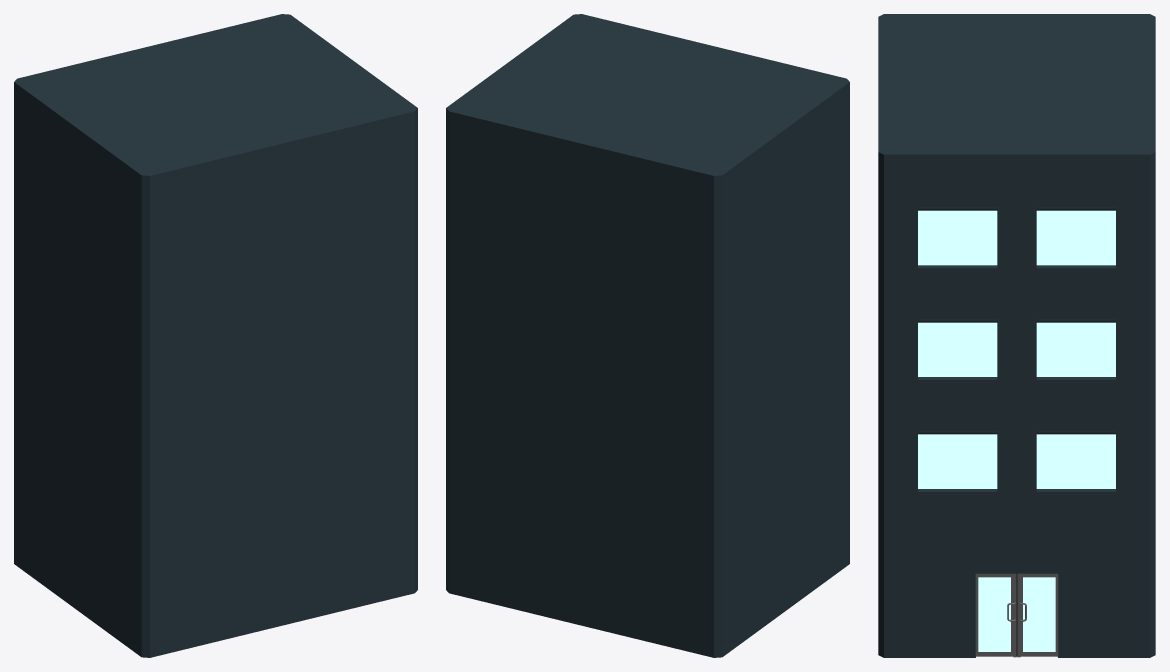
The model's file is Building_1.fbx.
3 views of the same model, side by side, from view 1: azimuth 30°, elevation 25°; view 2: azimuth 150°, elevation 25°; view 3: azimuth 270°, elevation 25° (orthographic). The views are drawn at different scales.
Visible parts, largest first — view 1: Building; view 2: Building; view 3: Building.
Part boxes in pixels (x1,y1,x2,y2): Building: [14, 14, 417, 657]; Building: [446, 14, 849, 657]; Building: [878, 14, 1155, 657].
Size of the model in its own units: 1203 by 2000 by 1000.
